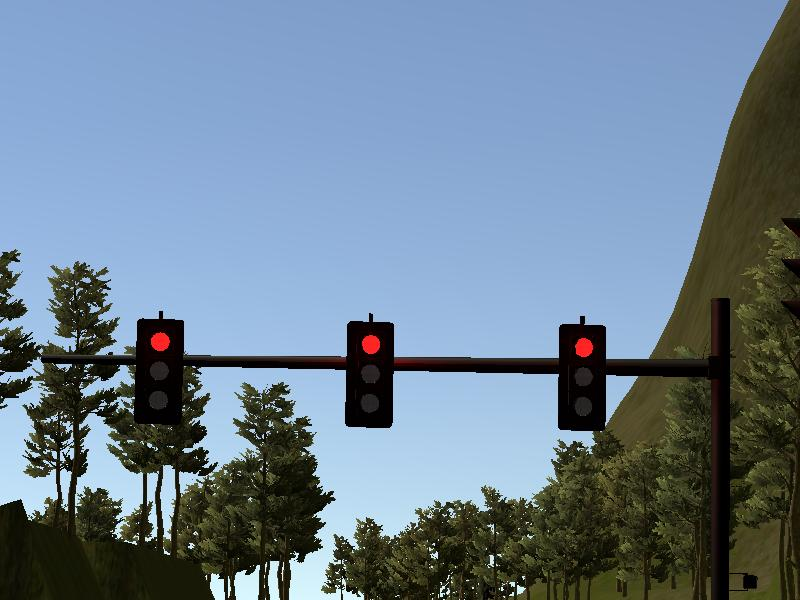red: (557, 323, 607, 431), (346, 319, 394, 429), (135, 318, 183, 424)
